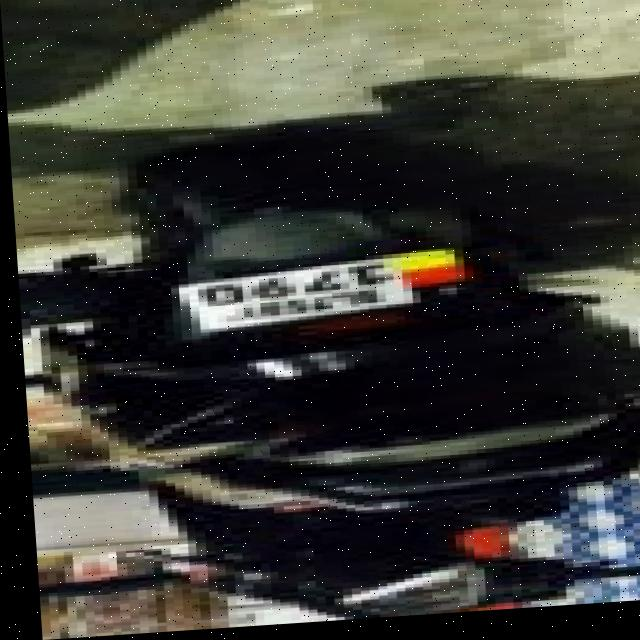plate: (158, 248, 496, 341)
